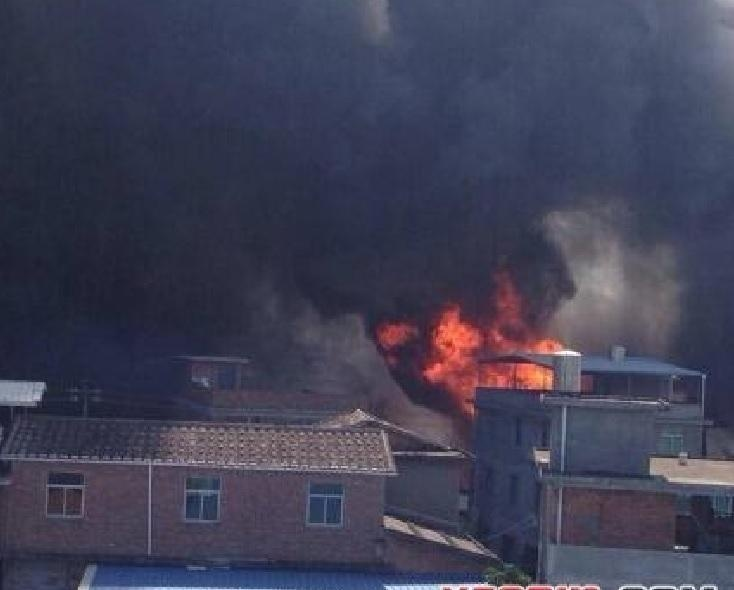fire: (390, 285, 564, 400)
